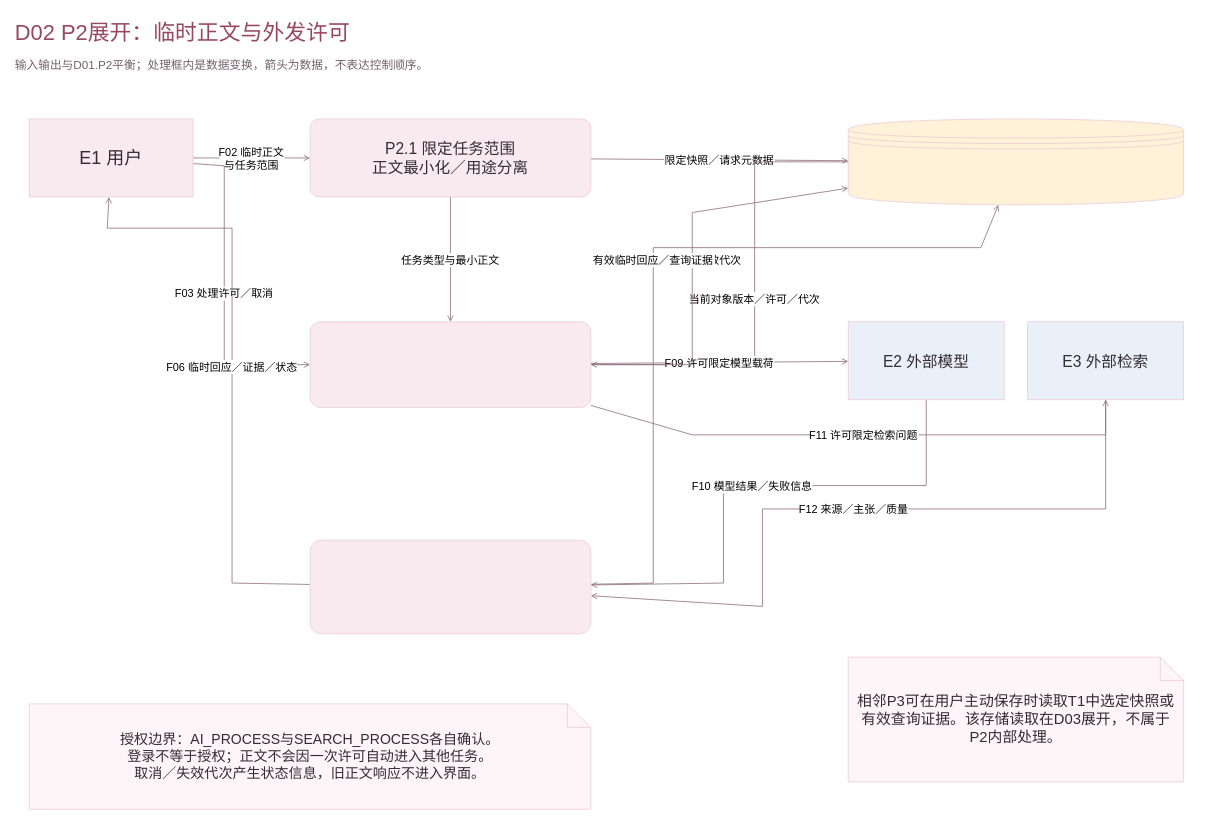
The diagram is 1228 pixels wide and 823 high, and some of its shapes have lost their labels. Each missing label, with the centre of its shape:
P2.2 校验处理许可 入口／账号／版本／代次: the point at 450,364
P2.3 过滤旧响应并组织结果 主张关联来源与不确定性: the point at 450,586
T1 临时正文／许可／任务 默认服务内存: the point at 1015,161
